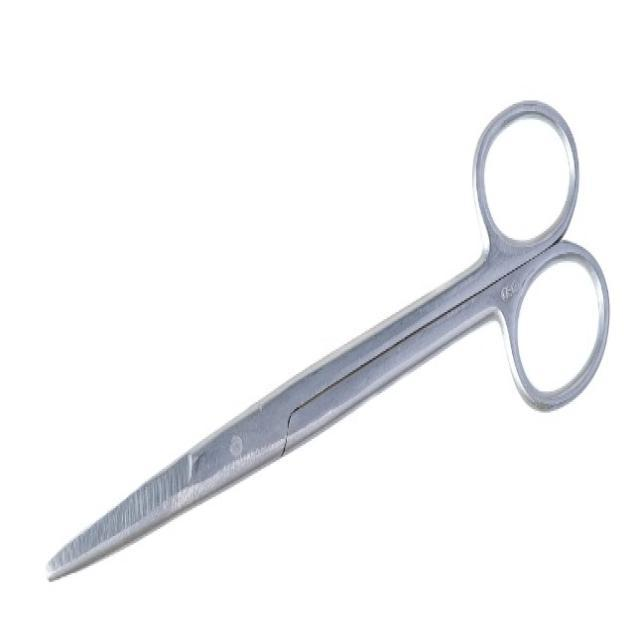Straight Mayo: (39, 83, 609, 598)
